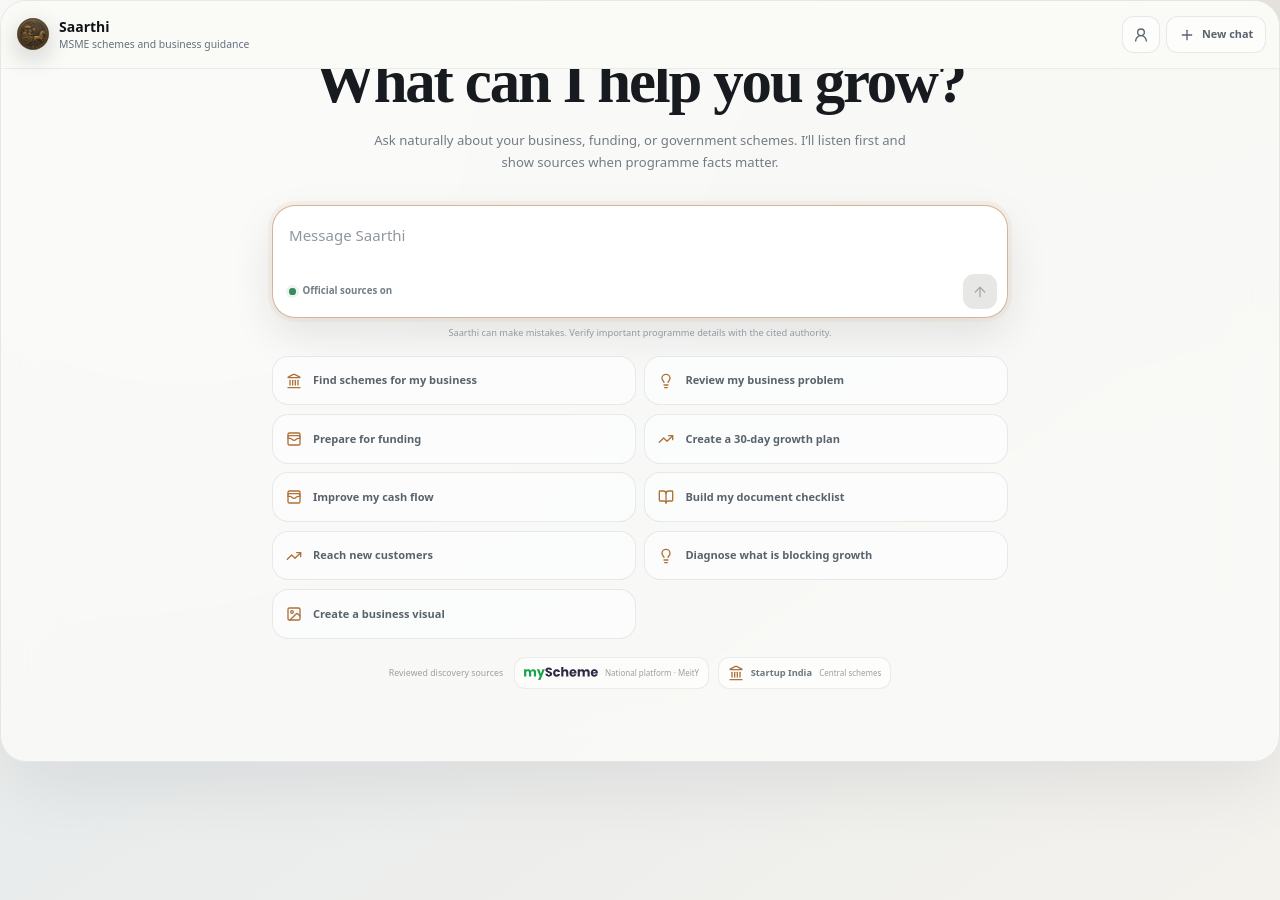
Saarthi advisor workspace › replaces provisional text when the server returns a validated fallback
(page scrolled)
Type "Test safe replacement." into the text box labelled "Message Saarthi" at (643, 245), box [289,215,997,274]
Then press Enter
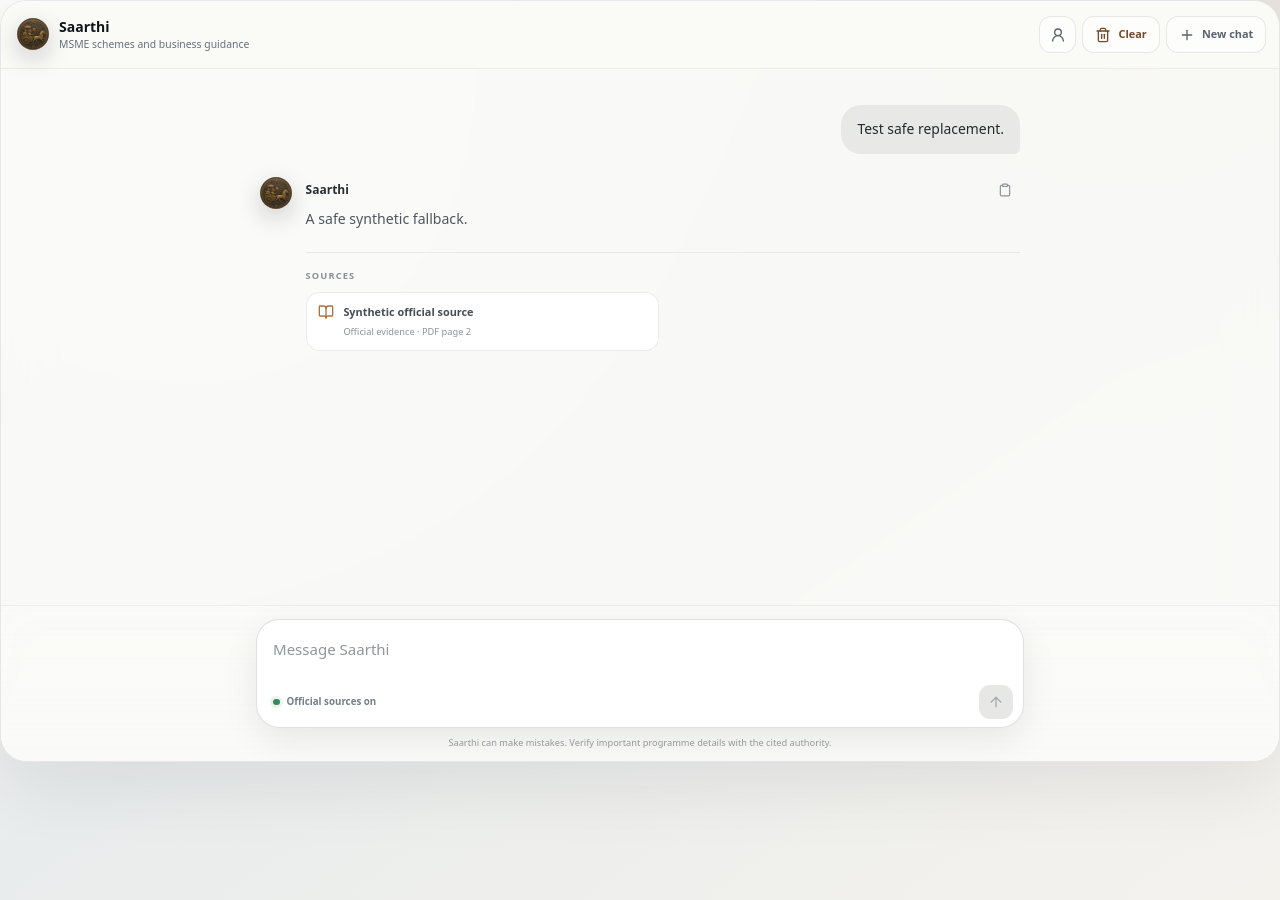
expect the text "A safe synthetic fallback." is shown: met, box [306,208,467,228]
